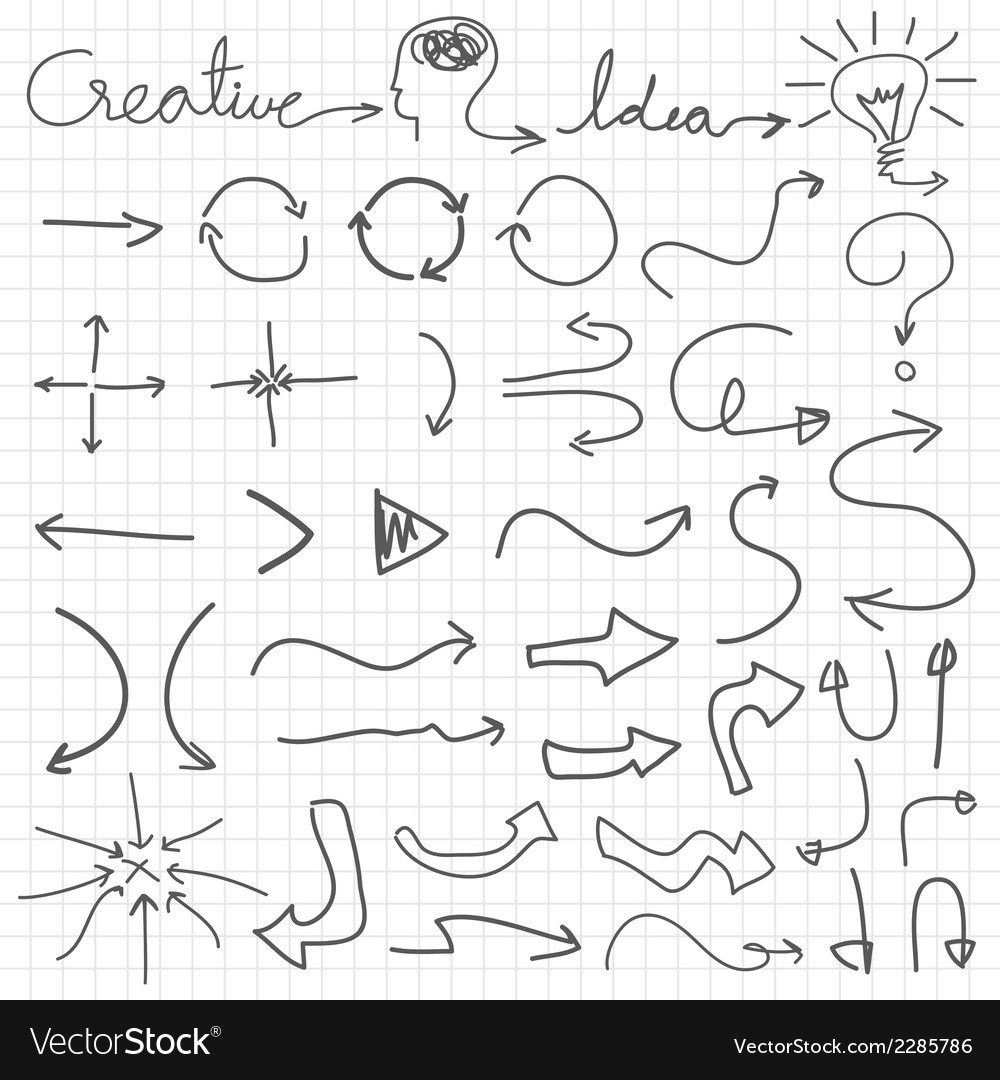arrow: (255, 900, 377, 974), (476, 800, 558, 874), (824, 894, 891, 979), (855, 406, 946, 462), (44, 715, 122, 780), (35, 507, 129, 560), (151, 709, 222, 779), (615, 502, 694, 564), (506, 907, 587, 967), (400, 613, 481, 672), (759, 395, 835, 451), (846, 582, 925, 635), (917, 637, 966, 719), (560, 303, 638, 350), (89, 207, 162, 252), (816, 659, 856, 731), (569, 419, 632, 464), (721, 473, 780, 521), (194, 221, 244, 277), (942, 906, 981, 976), (792, 833, 859, 872), (448, 710, 508, 753), (259, 171, 309, 222), (887, 292, 934, 346), (734, 102, 792, 144), (166, 861, 239, 894), (416, 173, 472, 216), (494, 220, 534, 280), (420, 383, 461, 440), (164, 812, 214, 855), (777, 165, 827, 206), (897, 165, 952, 201), (918, 789, 978, 821), (344, 211, 378, 267), (112, 371, 172, 402), (421, 242, 464, 284), (122, 800, 155, 853), (764, 932, 807, 972), (79, 314, 114, 363), (60, 861, 117, 891), (75, 413, 111, 459), (74, 835, 125, 866), (30, 369, 81, 397), (226, 370, 262, 397)
